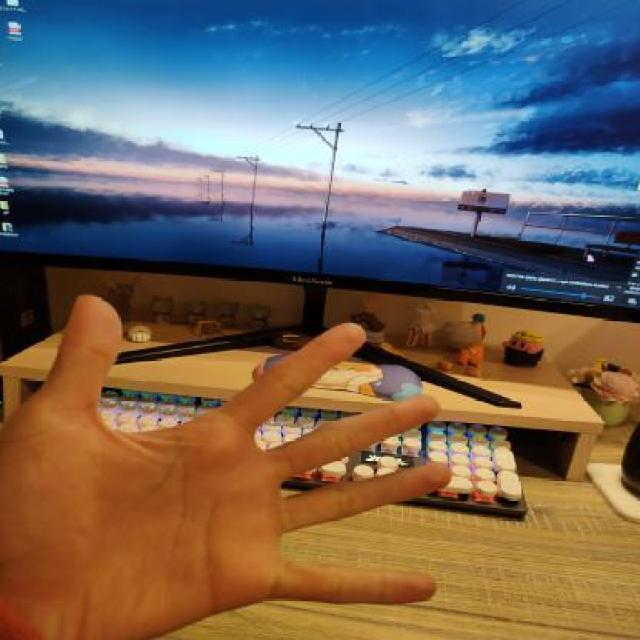bare_hand: (2, 267, 473, 640)
